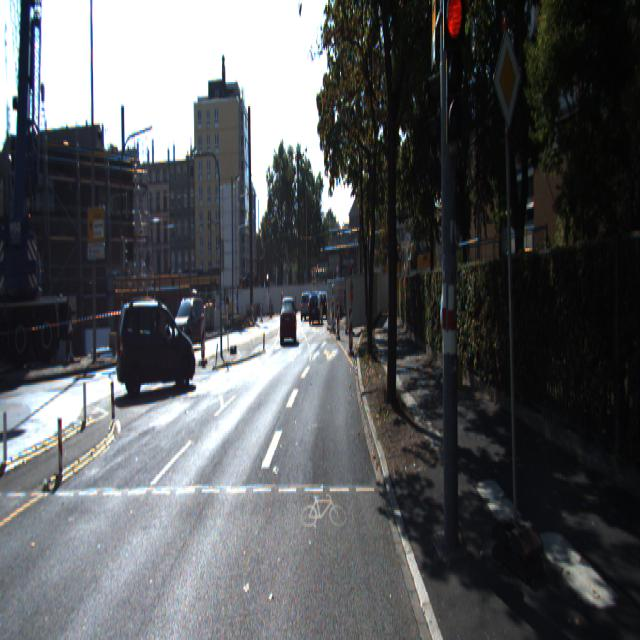Car: (114, 294, 199, 399), (170, 291, 205, 349), (279, 290, 295, 340), (308, 291, 323, 323)
